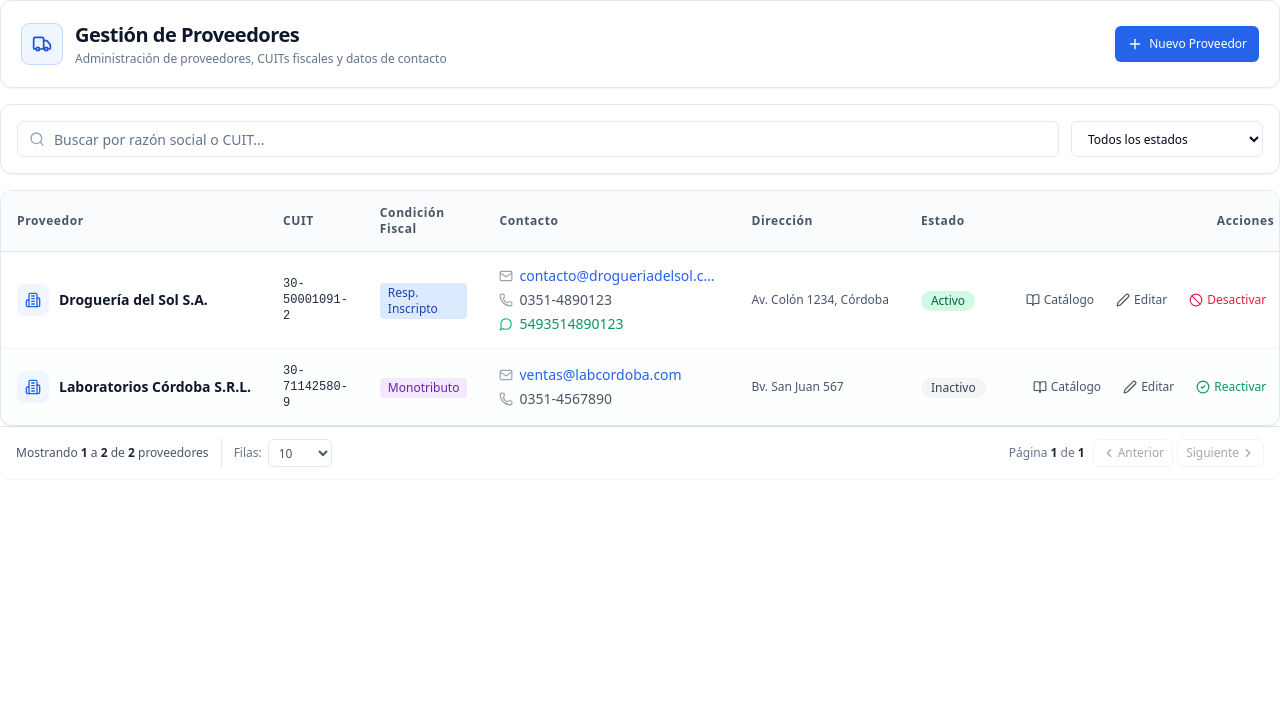
Test: SuppliersPage Integration Suite › opens create modal, submits new supplier and displays success feedback
Expected: the text "Droguería del Sol S.A." is shown, [59,290,208,310]
Step 1. Click the button "Nuevo Proveedor" → {"x": 1187, "y": 44}, box [1115,26,1259,62]
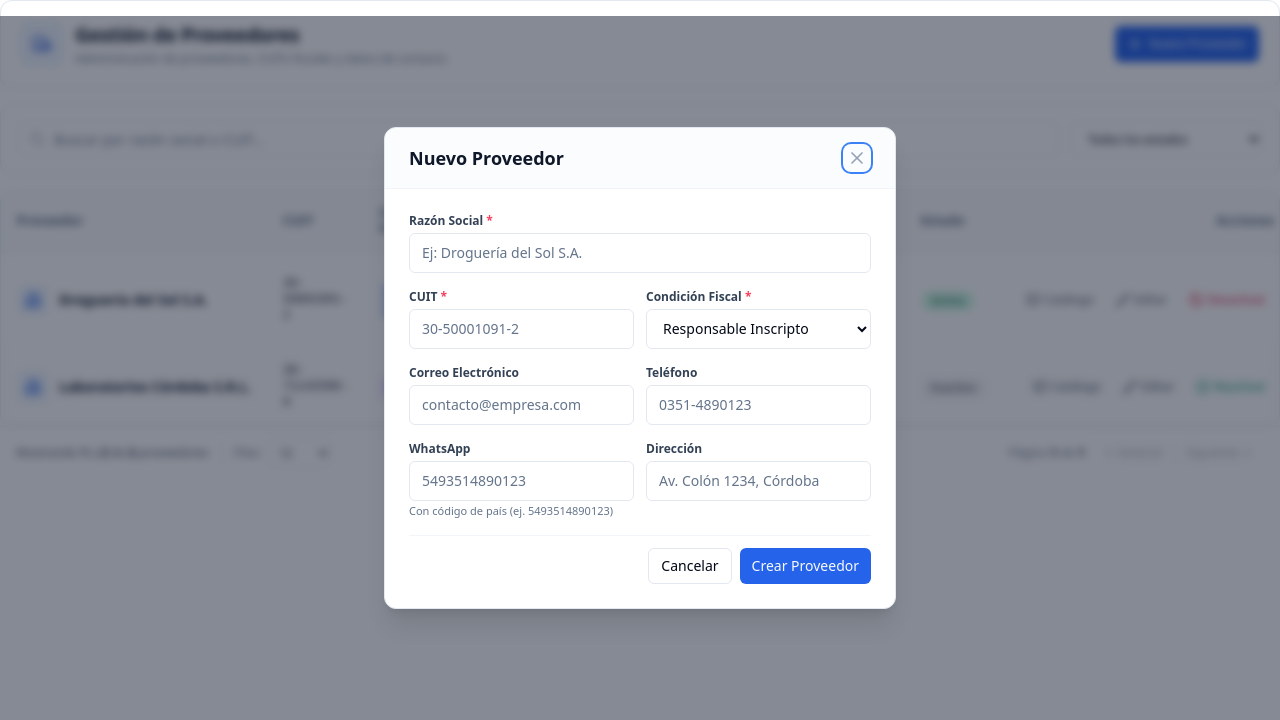
Expected: the heading "Nuevo Proveedor" is shown, [409,144,564,172]
Step 2. Type "Farmacéutica Central S.A." into the field with placeholder "Ej: Droguería del Sol S.A." → {"x": 640, "y": 253}, box [409,233,871,273]
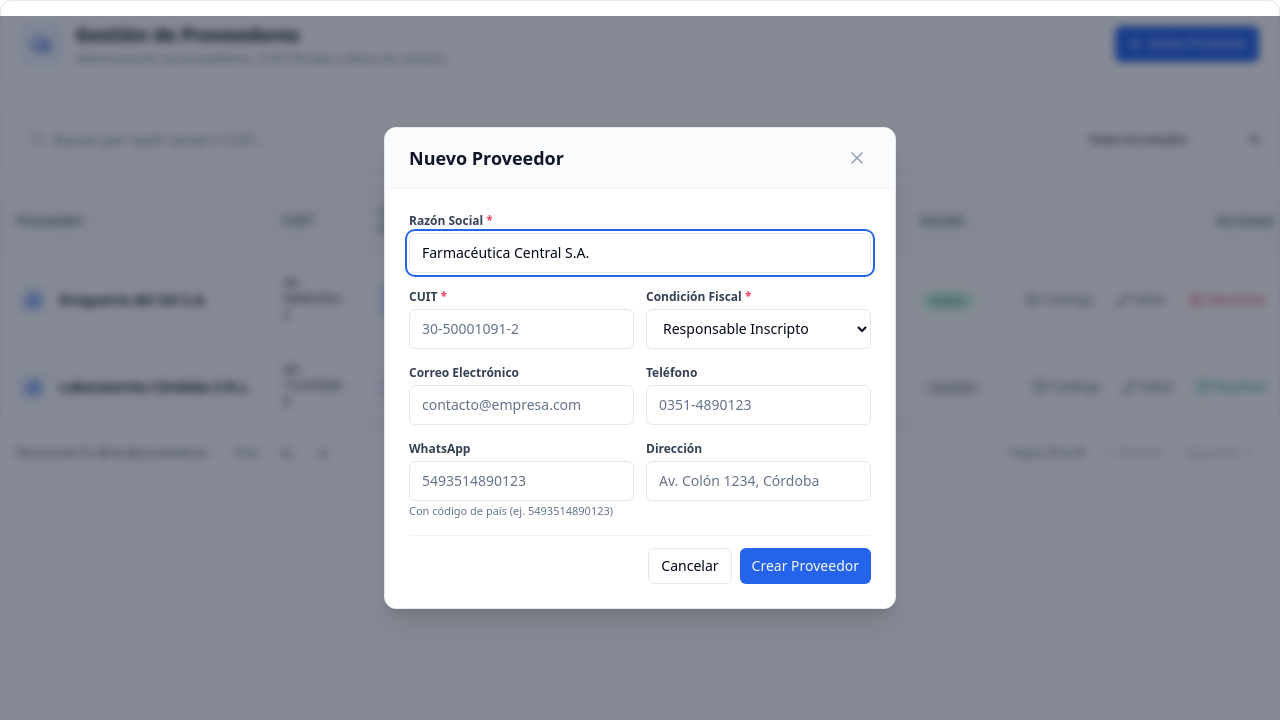
Step 3. Type "20-12345678-6" into the field with placeholder "30-50001091-2" → {"x": 522, "y": 329}, box [409,309,634,349]
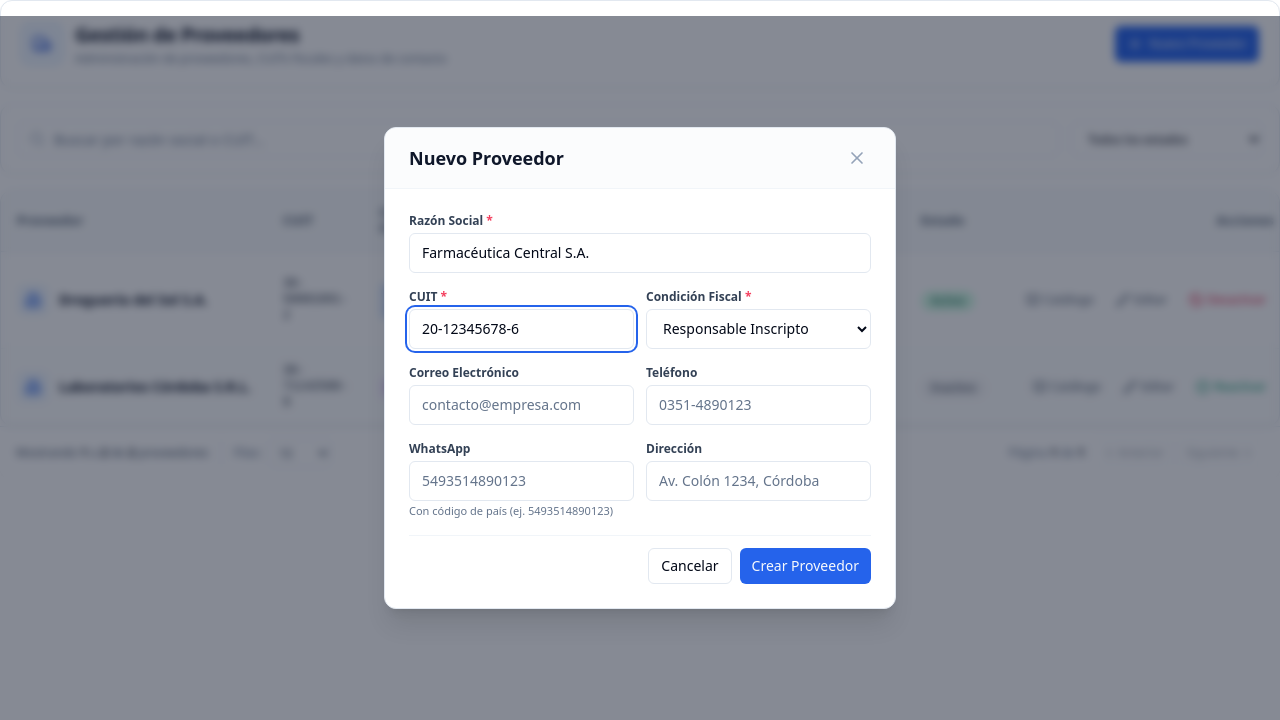
Step 4. Click the button "Crear Proveedor" → {"x": 805, "y": 566}, box [740,548,871,584]
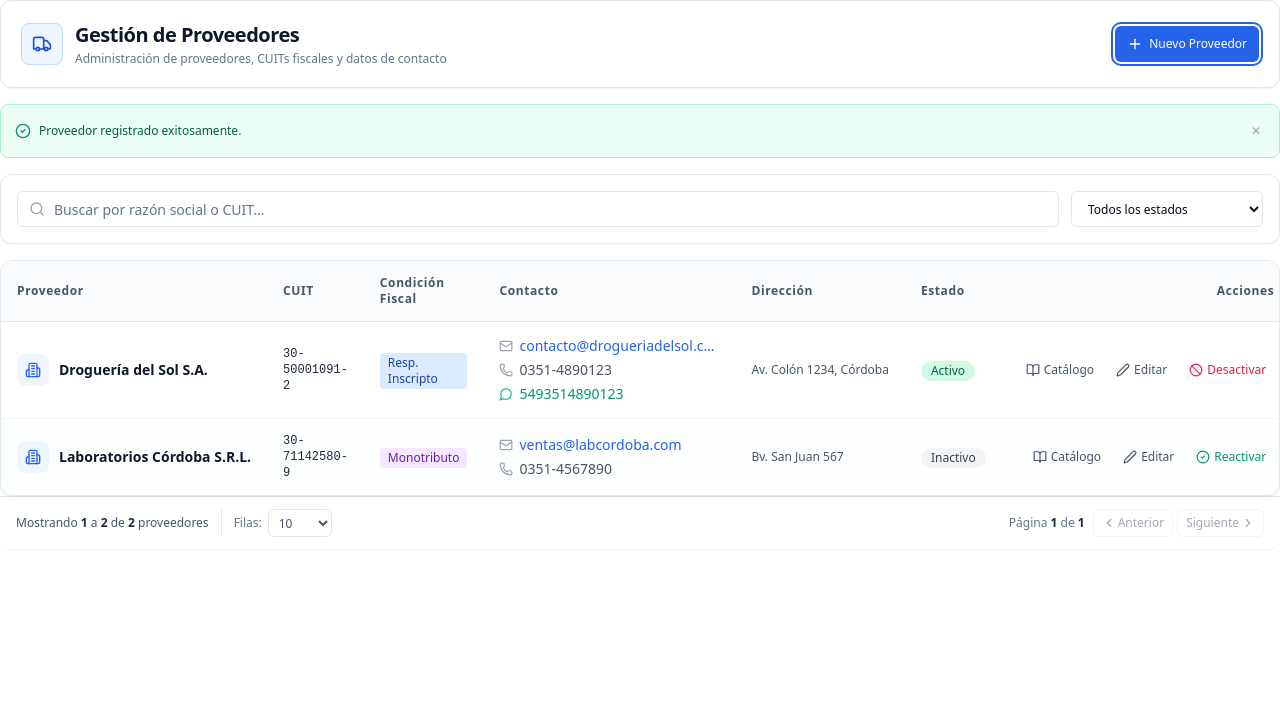
Expected: the text "Proveedor registrado exitosamente." is shown, [39,123,241,139]
